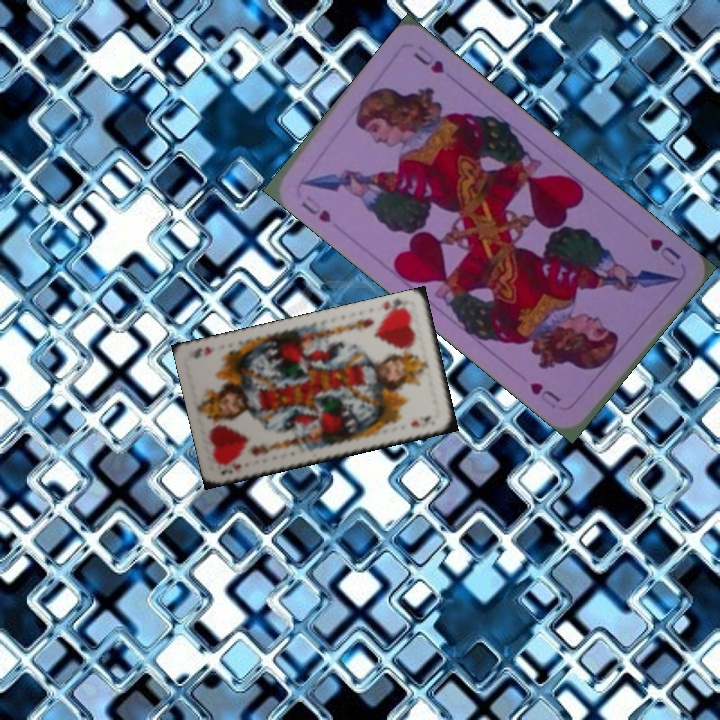HK: (378, 295, 411, 319), (217, 458, 243, 478)
HU: (645, 234, 684, 269), (297, 191, 334, 226)
